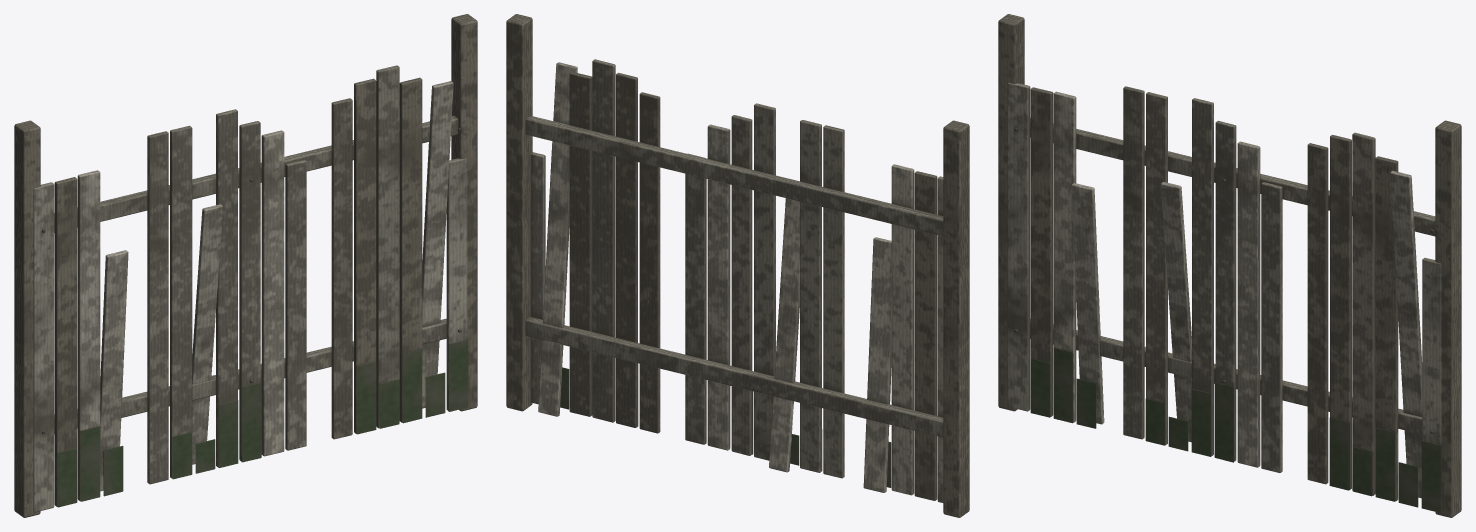
Rendered from plot_deski_b.glb.
3 renders of one model, left to right at view 1: azimuth 30°, elevation 25°; view 2: azimuth 150°, elevation 25°; view 3: azimuth 330°, elevation 25°, orthographic.
Visible parts, largest first — view 1: Plot; view 2: Plot; view 3: Plot.
Boxes of the visible parts, x1,y1,x2,y2 form: Plot: (14, 14, 477, 517); Plot: (506, 14, 969, 517); Plot: (998, 14, 1461, 517).
Bounding box in the file's own units: 2.6 × 2.12 × 0.2031.
1 material, 1 textured.
